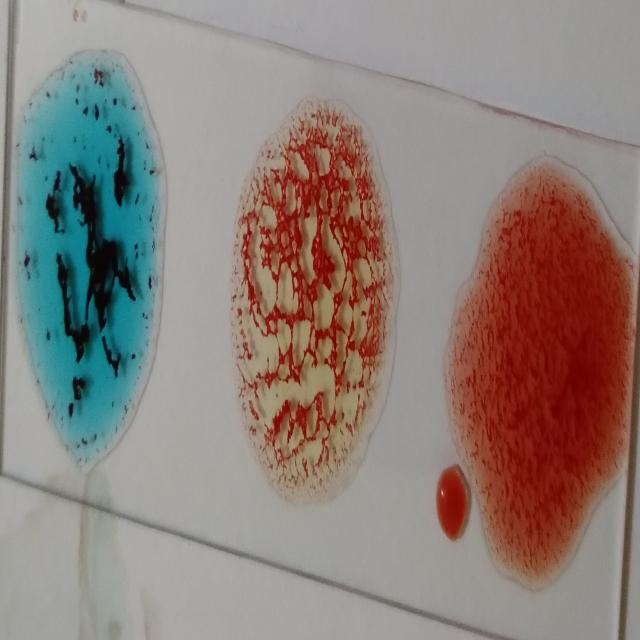A: (7, 48, 177, 469)
B: (228, 93, 402, 507)
D: (459, 144, 635, 589)
